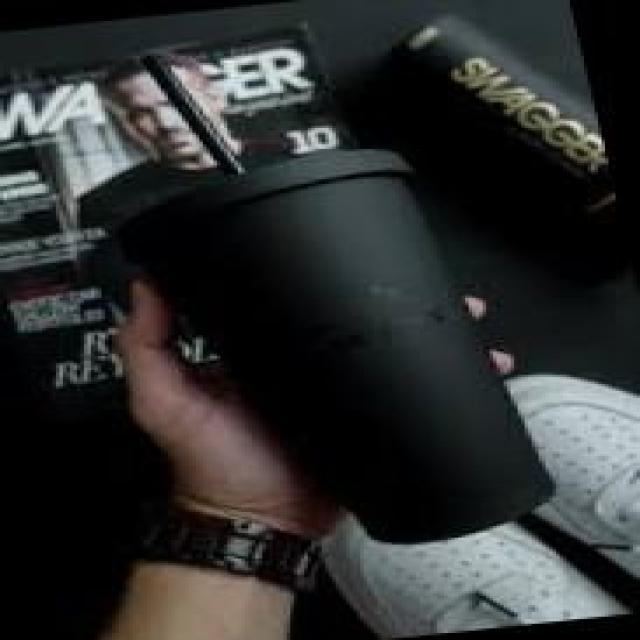bottle: (73, 24, 577, 567)
